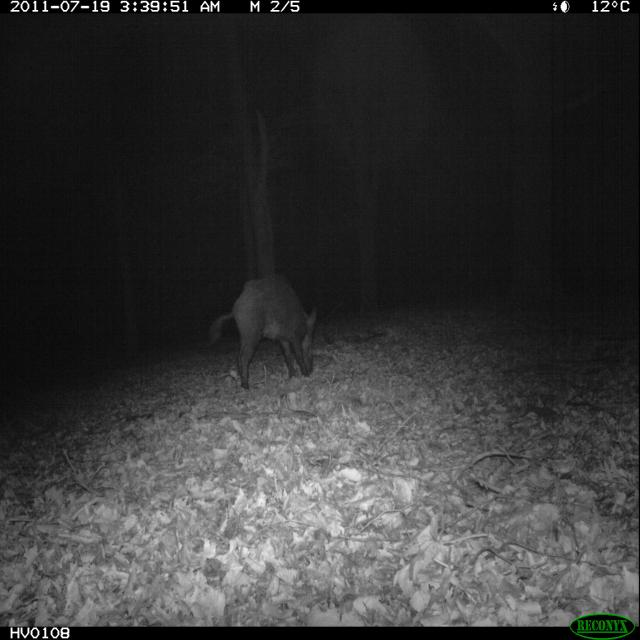boar: (192, 242, 346, 416)
